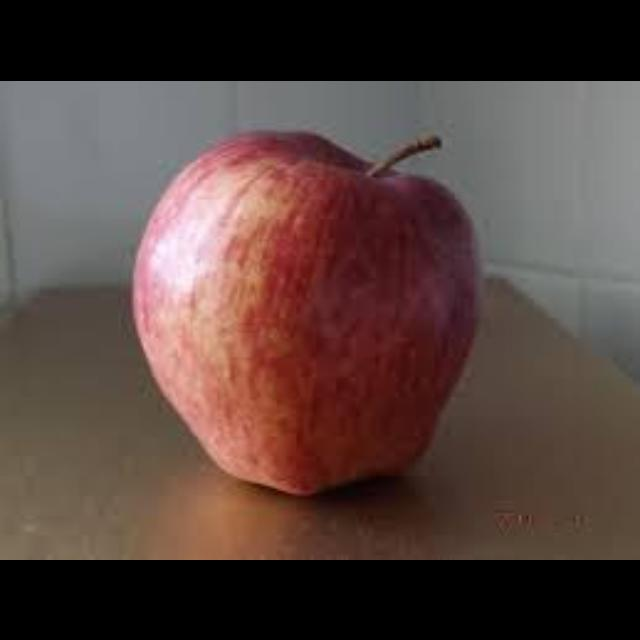apple: (131, 132, 479, 493)
